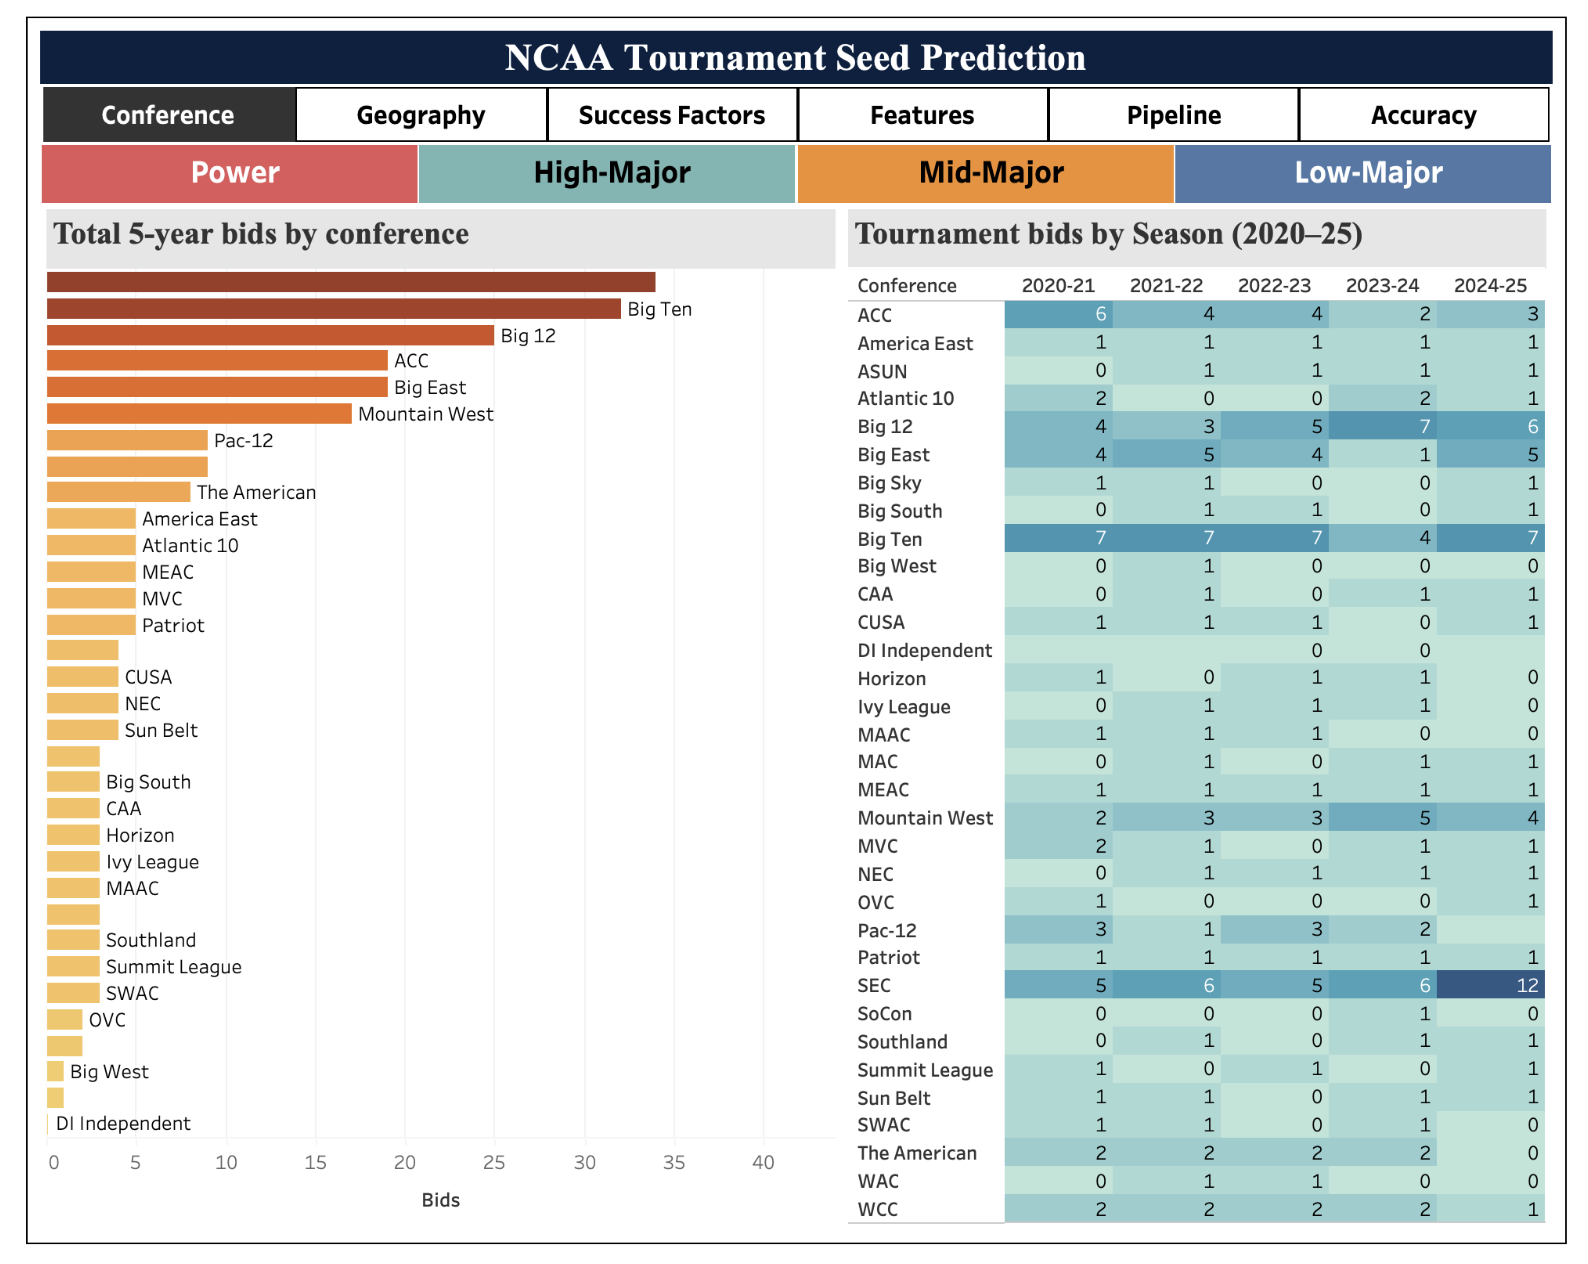

Layout of this report page (visuals, bound fields, positions):
{"tool":"tableau","page":{"name":"Conference","canvas":[1000,800],"ordinal":1},"visuals":[{"type":"title","box":[17,17,966,34]},{"type":"dashboard-object","box":[19,53,161,35]},{"type":"dashboard-object","box":[180,53,161,35]},{"type":"dashboard-object","box":[341,53,160,35]},{"type":"dashboard-object","box":[501,53,160,35]},{"type":"dashboard-object","box":[661,53,160,35]},{"type":"dashboard-object","box":[821,53,160,35]},{"type":"worksheet","title":"Button Filter","mark":"Bar","rows":["Calculation_3541169843793923"],"cols":["Conf_type"],"box":[17,90,966,37]},{"type":"worksheet","title":"Total bids","mark":"Bar","rows":["Conference"],"cols":["Pivot Field Values"],"box":[17,127,512.4,656]},{"type":"worksheet","title":"conf-bids","mark":"Square","rows":["Conference"],"cols":["Pivot Field Names"],"box":[529.4,127,453.6,656]}]}

Visuals, with their boxes in screenshot pixels (x1, y1, x2, y2), scaled from the page's 1000x800 canvas onto the 1588x1264 screenshot:
title: bbox=[27, 27, 1561, 81]
dashboard-object: bbox=[30, 84, 286, 139]
dashboard-object: bbox=[286, 84, 542, 139]
dashboard-object: bbox=[542, 84, 796, 139]
dashboard-object: bbox=[796, 84, 1050, 139]
dashboard-object: bbox=[1050, 84, 1304, 139]
dashboard-object: bbox=[1304, 84, 1558, 139]
"Button Filter" worksheet (Bar marks): bbox=[27, 142, 1561, 201]
"Total bids" worksheet (Bar marks): bbox=[27, 201, 841, 1237]
"conf-bids" worksheet (Square marks): bbox=[841, 201, 1561, 1237]
